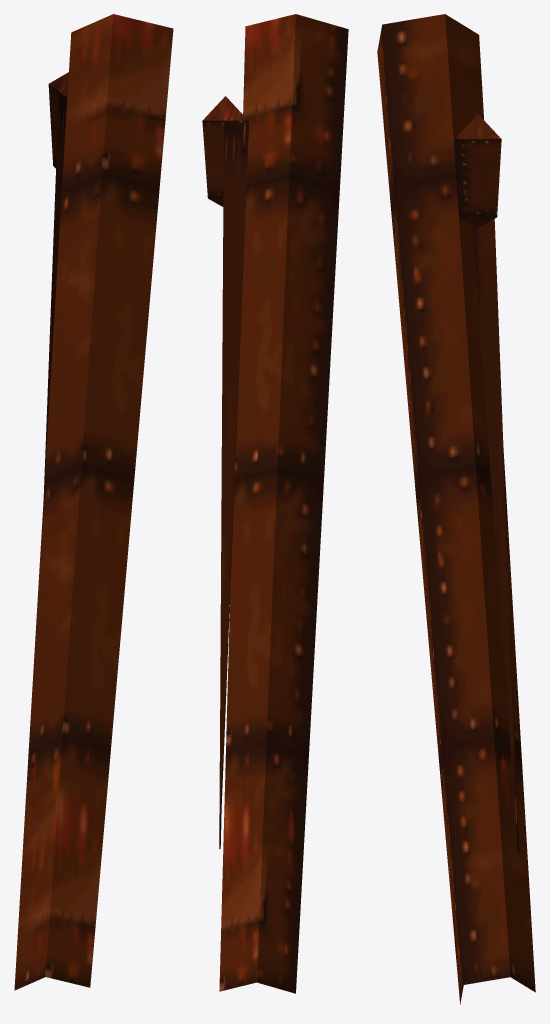
The model's file is Schiff_Schornstein_1273.glb.
3 views of the same model, side by side, from view 1: azimuth 90°, elevation 25°; view 2: azimuth 150°, elevation 25°; view 3: azimuth 270°, elevation 25° (orthographic). The views are drawn at different scales.
Parts seen in each view (by area): view 1: pCylinderShape6, pCylinderShape17, pCylinderShape18; view 2: pCylinderShape6, pCylinderShape17, pCylinderShape18; view 3: pCylinderShape6, pCylinderShape17, pCylinderShape18.
Part boxes in pixels (box(x1,y1,x2,y2)): pCylinderShape6: box(14, 14, 173, 990); pCylinderShape17: box(43, 94, 67, 494); pCylinderShape18: box(48, 72, 68, 168); pCylinderShape6: box(219, 14, 348, 993); pCylinderShape17: box(219, 122, 248, 848); pCylinderShape18: box(202, 96, 248, 206); pCylinderShape6: box(377, 14, 535, 1004); pCylinderShape17: box(472, 219, 519, 853); pCylinderShape18: box(454, 114, 501, 227).
Size of the model in its own units: 0.433 by 3.89 by 0.5804.
Materials: 3 (3 with a texture image).
